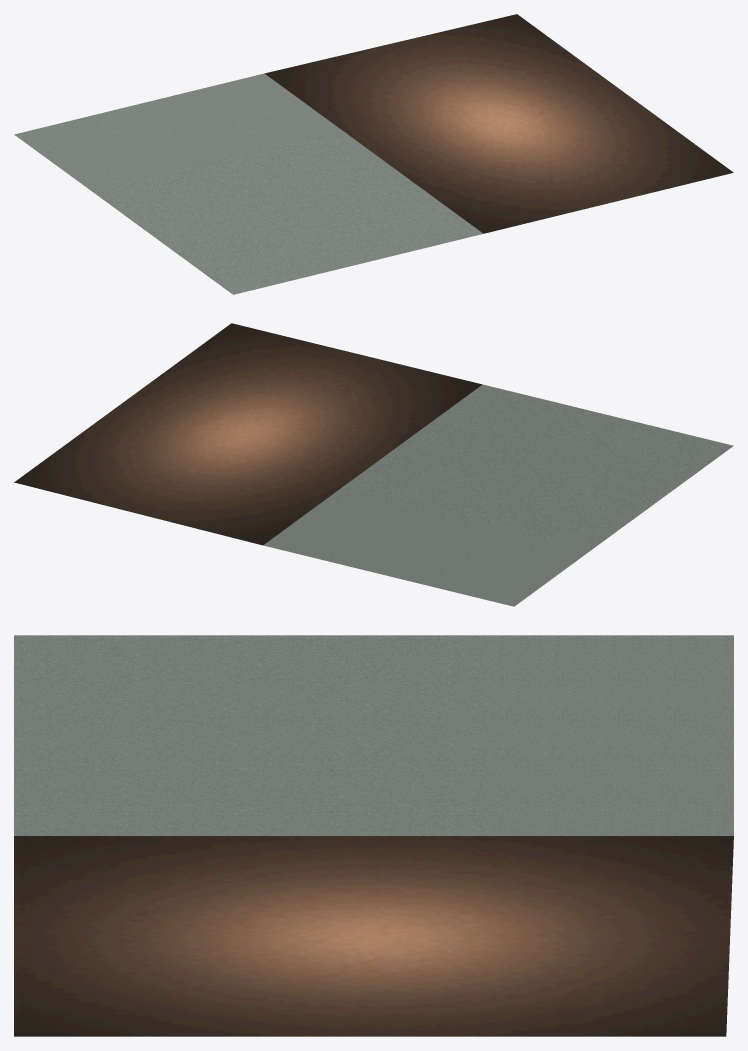
File: CEILING3.glb
3 views of the same model, one above another, from view 1: azimuth 30°, elevation 25°; view 2: azimuth 150°, elevation 25°; view 3: azimuth 270°, elevation 25° (orthographic). The views are drawn at different scales.
Parts seen in each view (by area): view 1: CEILING3; view 2: CEILING3; view 3: CEILING3.
Part boxes in pixels (box(x1,y1,x2,y2)): CEILING3: box(14, 14, 733, 294); CEILING3: box(14, 323, 733, 606); CEILING3: box(14, 635, 733, 1036).
Bounding box in the file's own units: 2400 × 0.000244 × 1819.
Materials: 2 (2 with a texture image).
